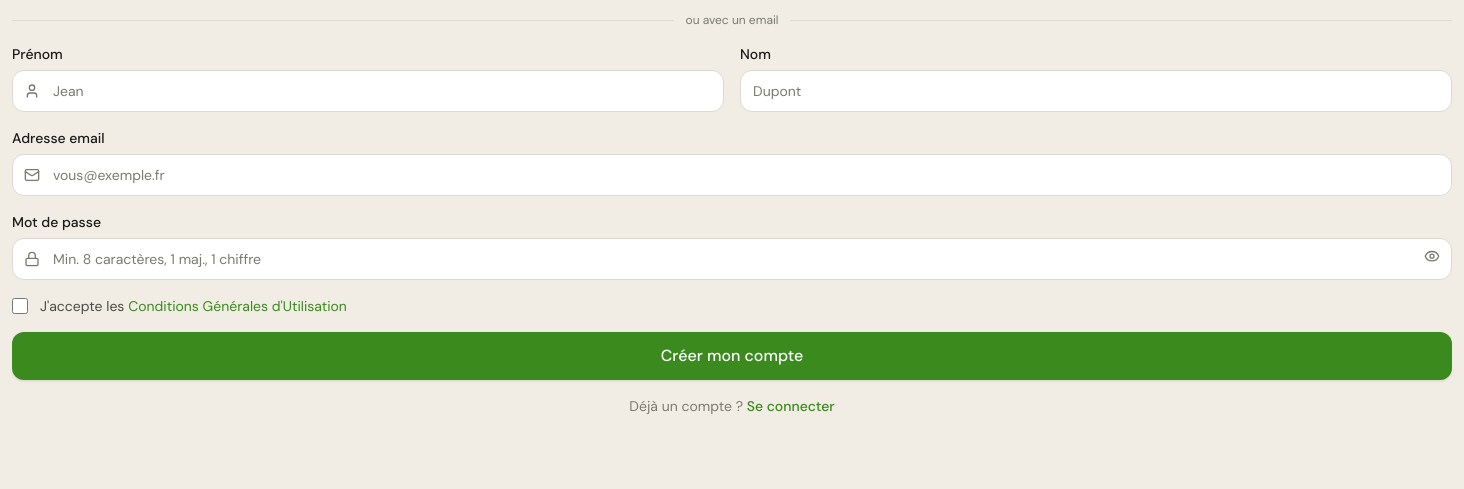
it: RegisterForm — validation › affiche une erreur si le mot de passe n'a pas de majuscule
In the field labelled "Adresse email": (732,175) [12,154,1452,196], type "nouveau@test.com"
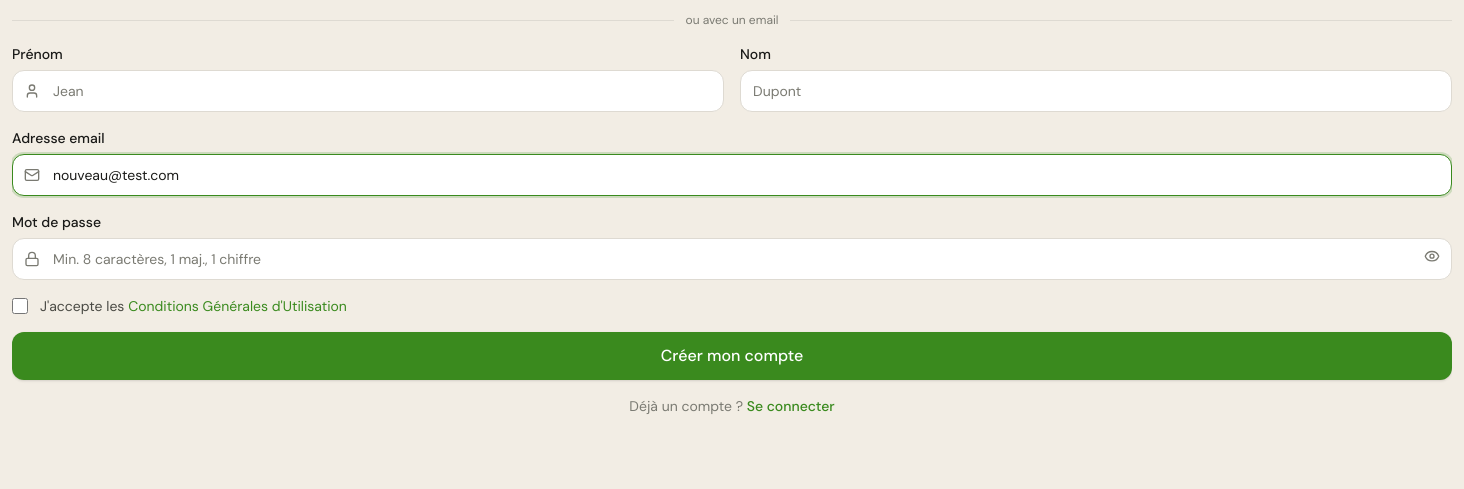
In the password field labelled "Mot de passe": (732,259) [12,238,1452,280], type "password1"
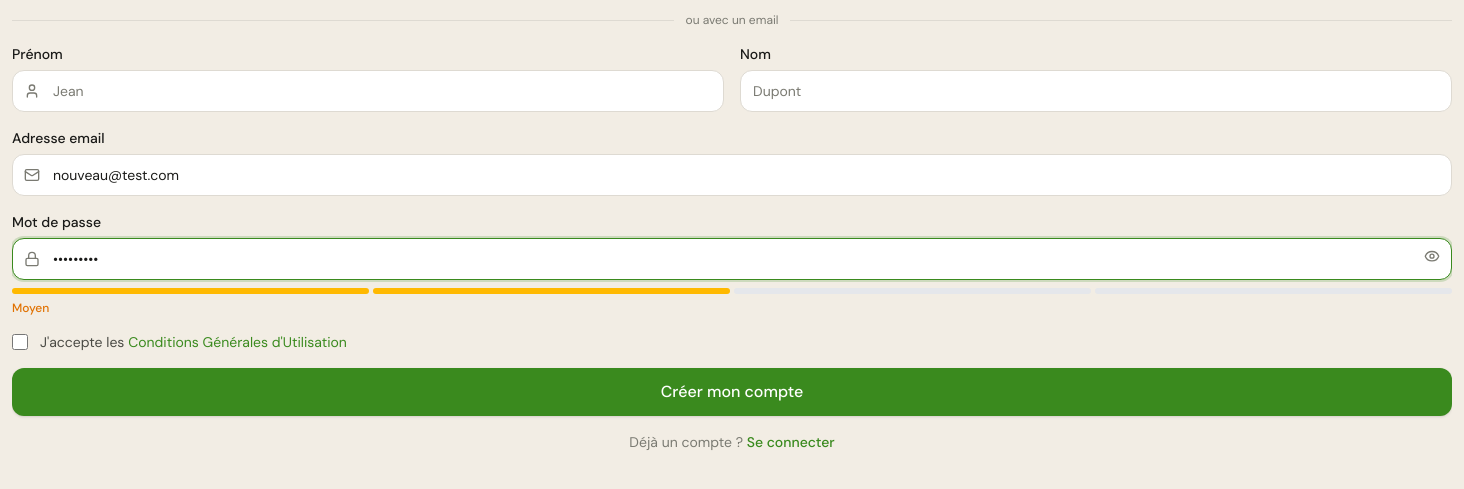
Click the checkbox: (20,342) [12,334,28,350]
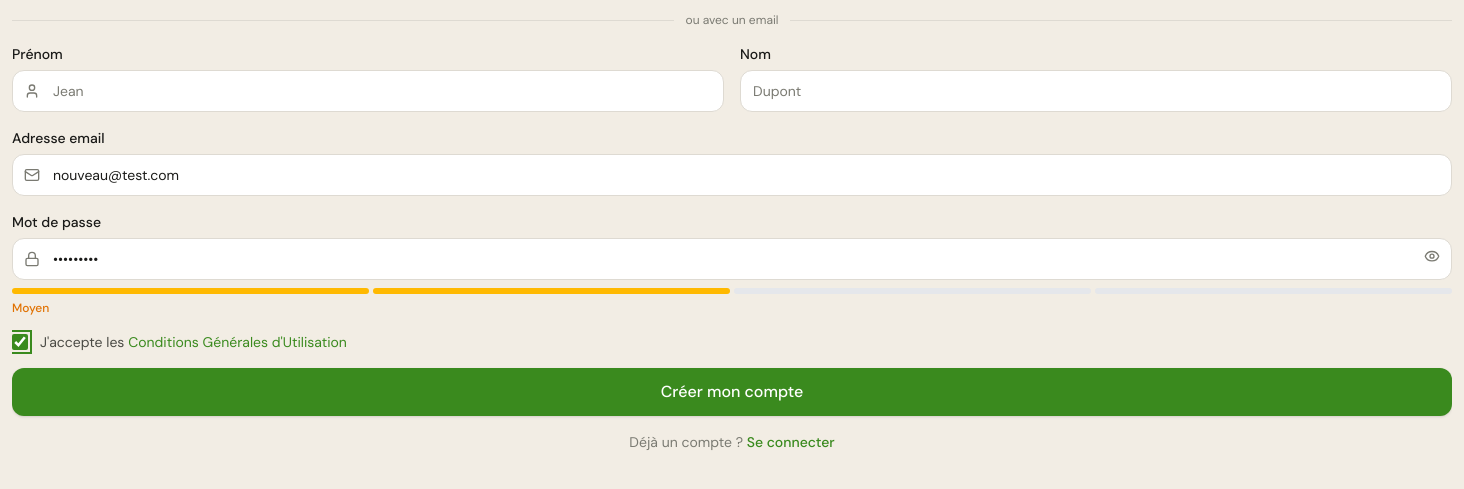
Click the button "Créer mon compte": (732,392) [12,368,1452,416]
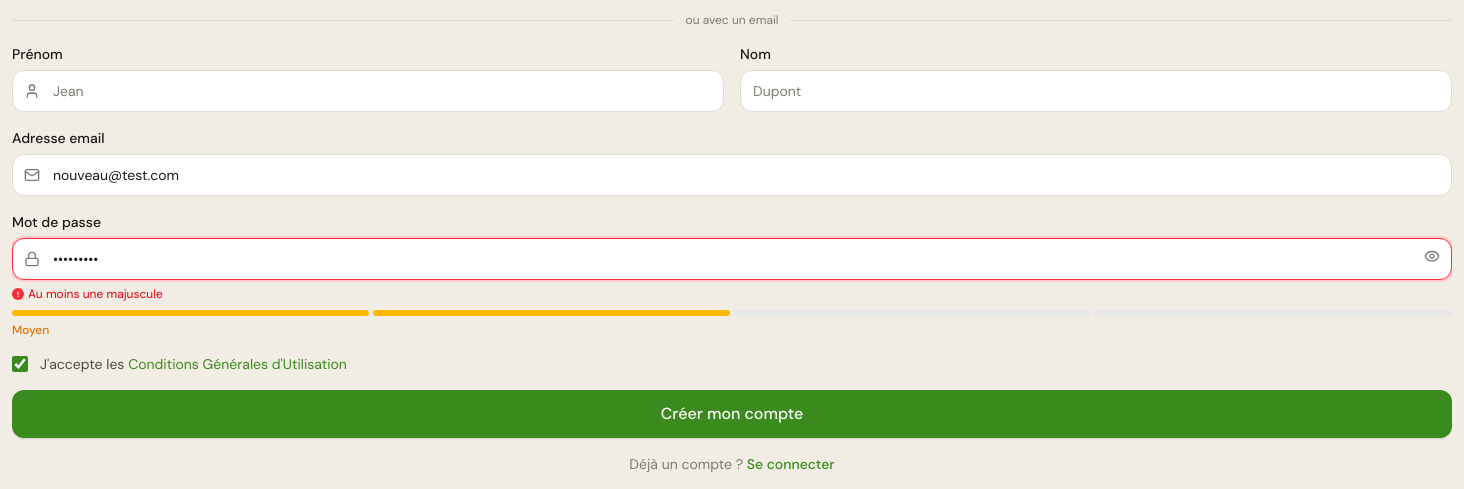
Expected: the text "Au moins une majuscule" is shown, [28,286,163,302]
